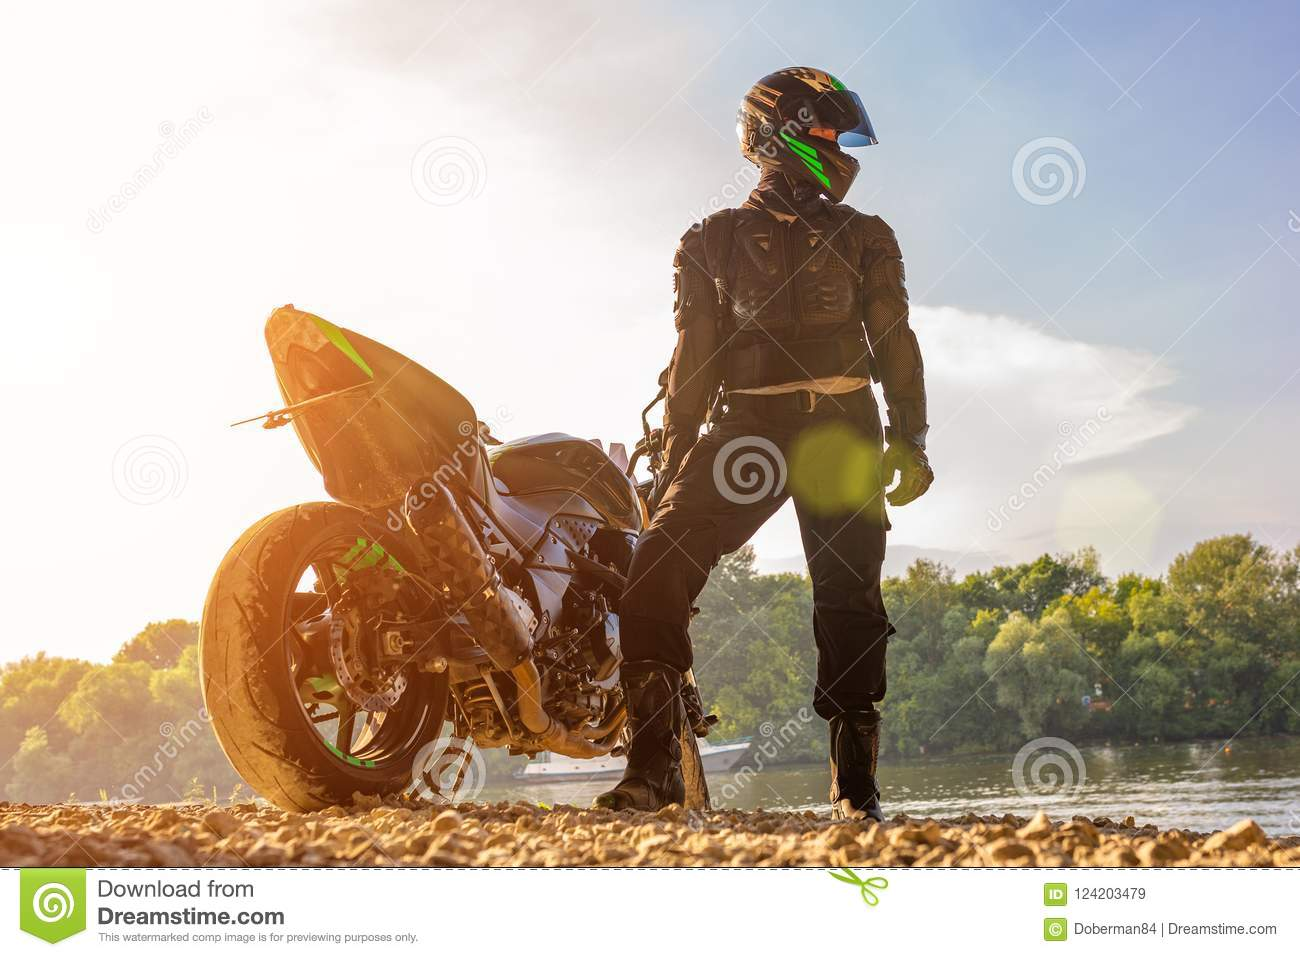helmet: (727, 54, 871, 194)
